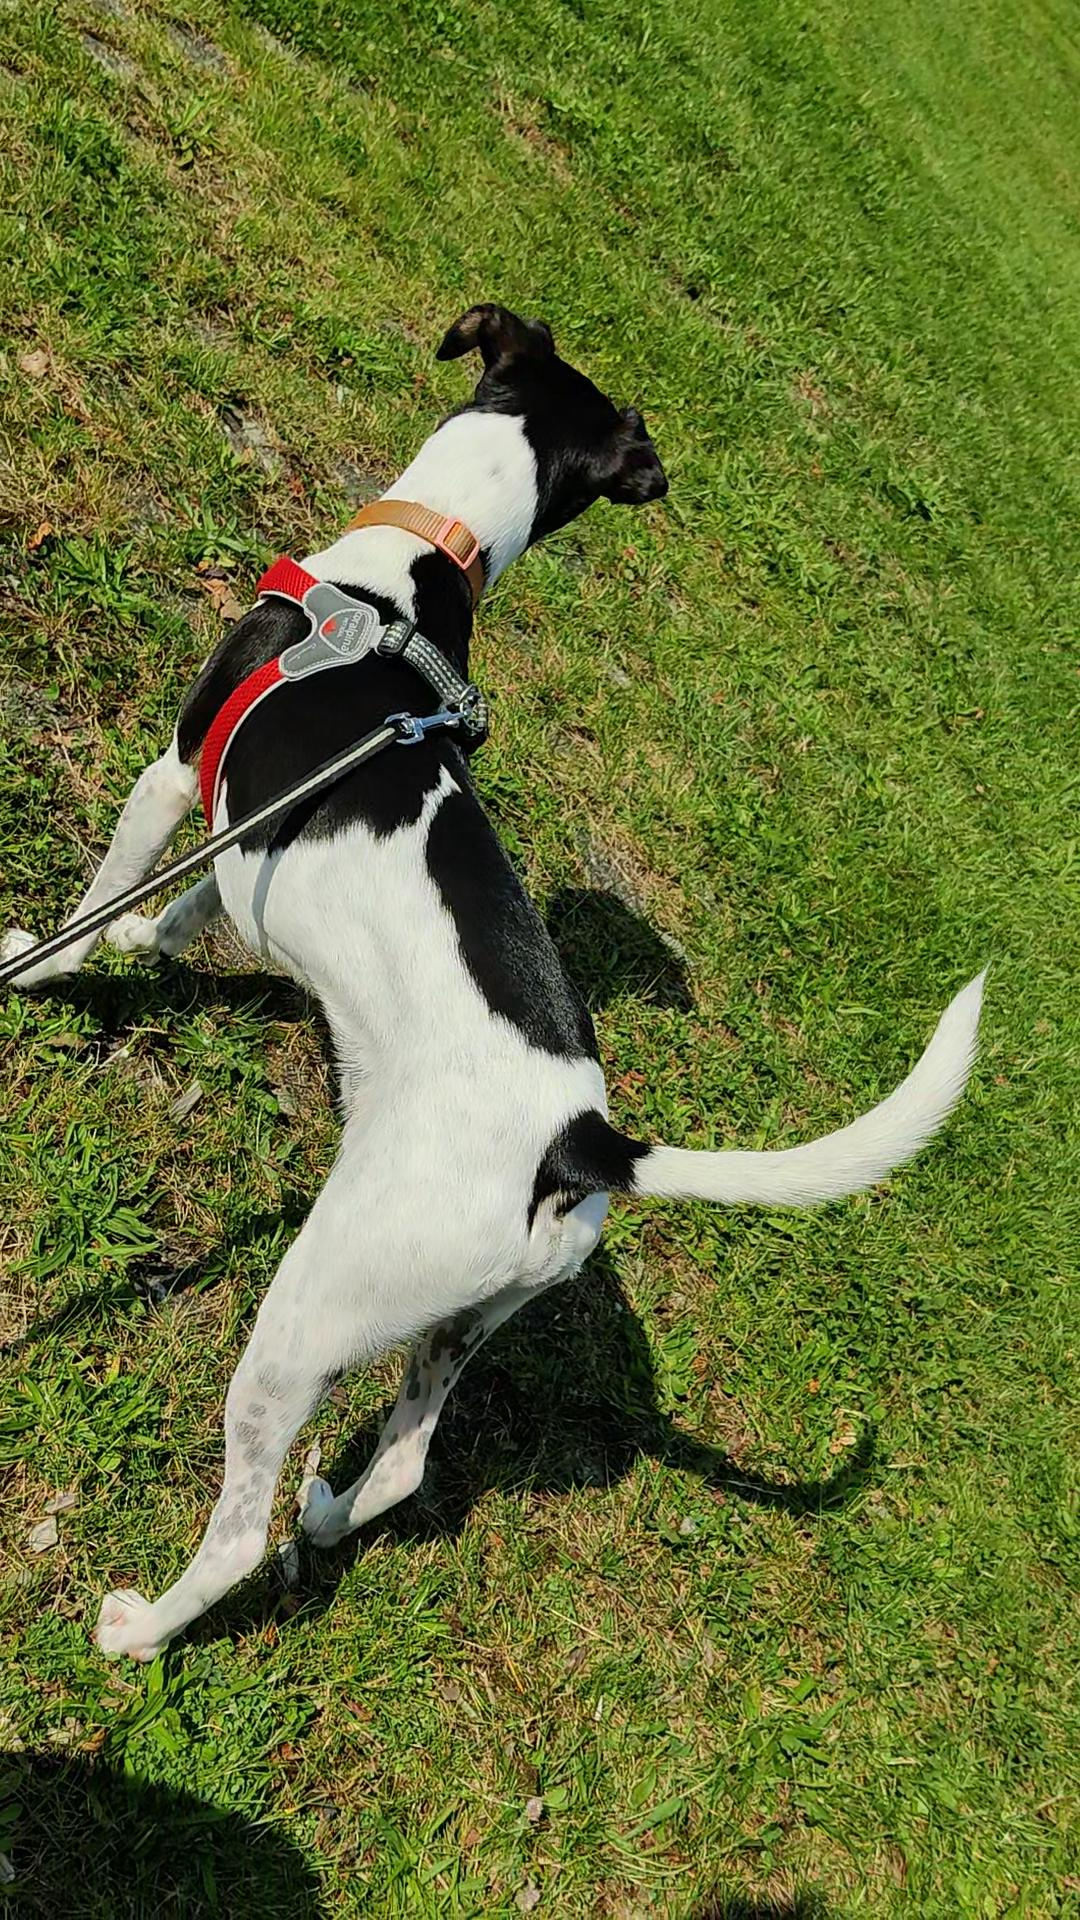Dog: (0, 294, 993, 1665)
